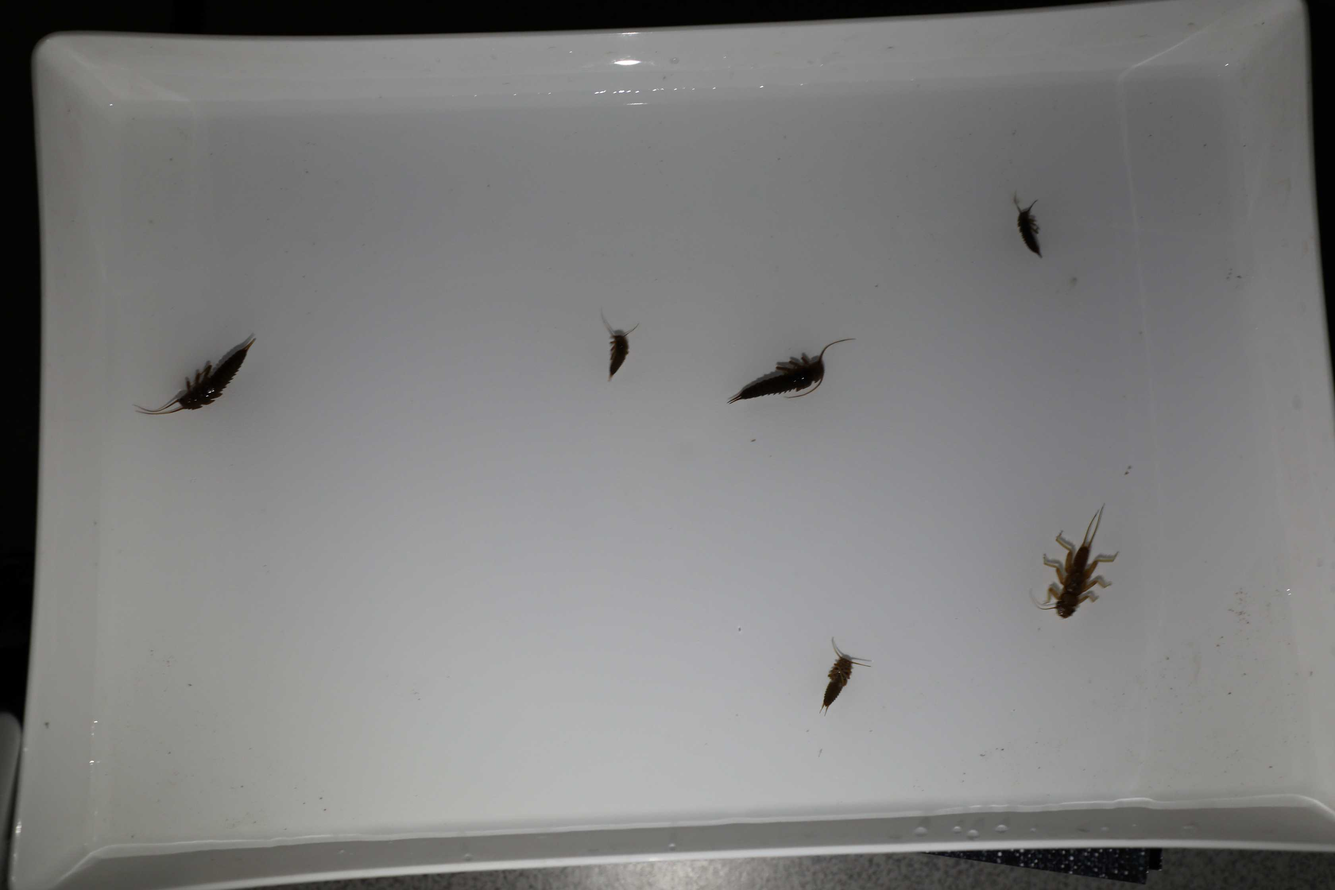Stonefly: (135, 332, 267, 423), (1034, 497, 1118, 621), (727, 332, 857, 409), (819, 634, 870, 715), (598, 304, 639, 388), (1009, 188, 1049, 258)
